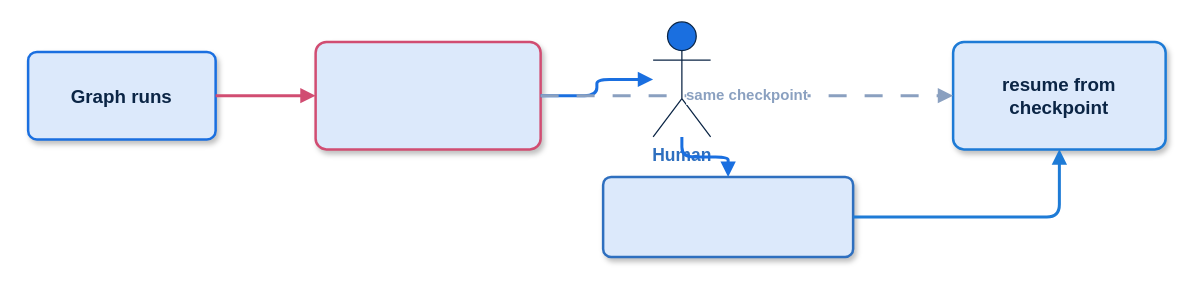
Image size: 1195x289. Some labels were removed from this diagram. The shapes that lost their labels are listed below. From the top down, each one's centre as x and y in pixels, then its label:
pixel 429 97: ⏸ interrupt checkpoint saved
pixel 728 218: inspect · edit · approve
